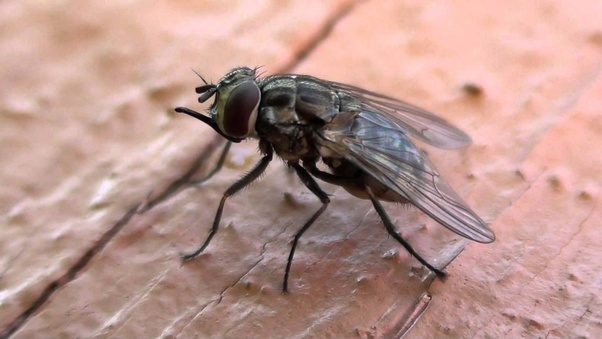fly: (143, 49, 508, 303)
